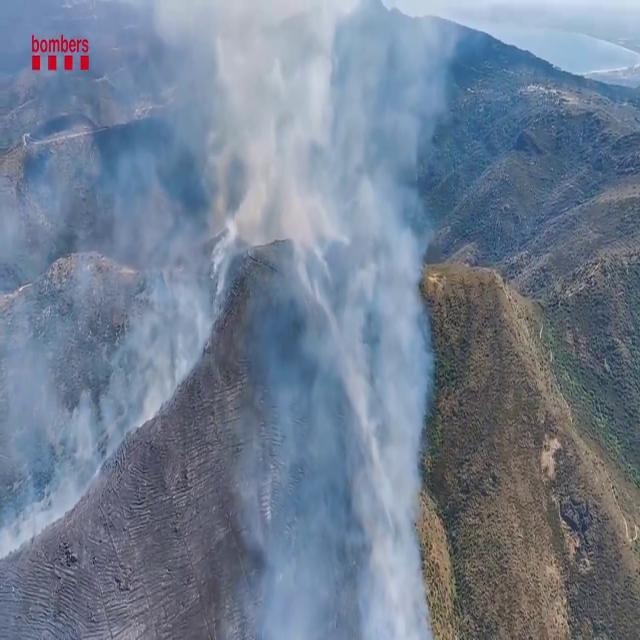Smoke: (214, 2, 468, 636), (0, 13, 232, 527)
